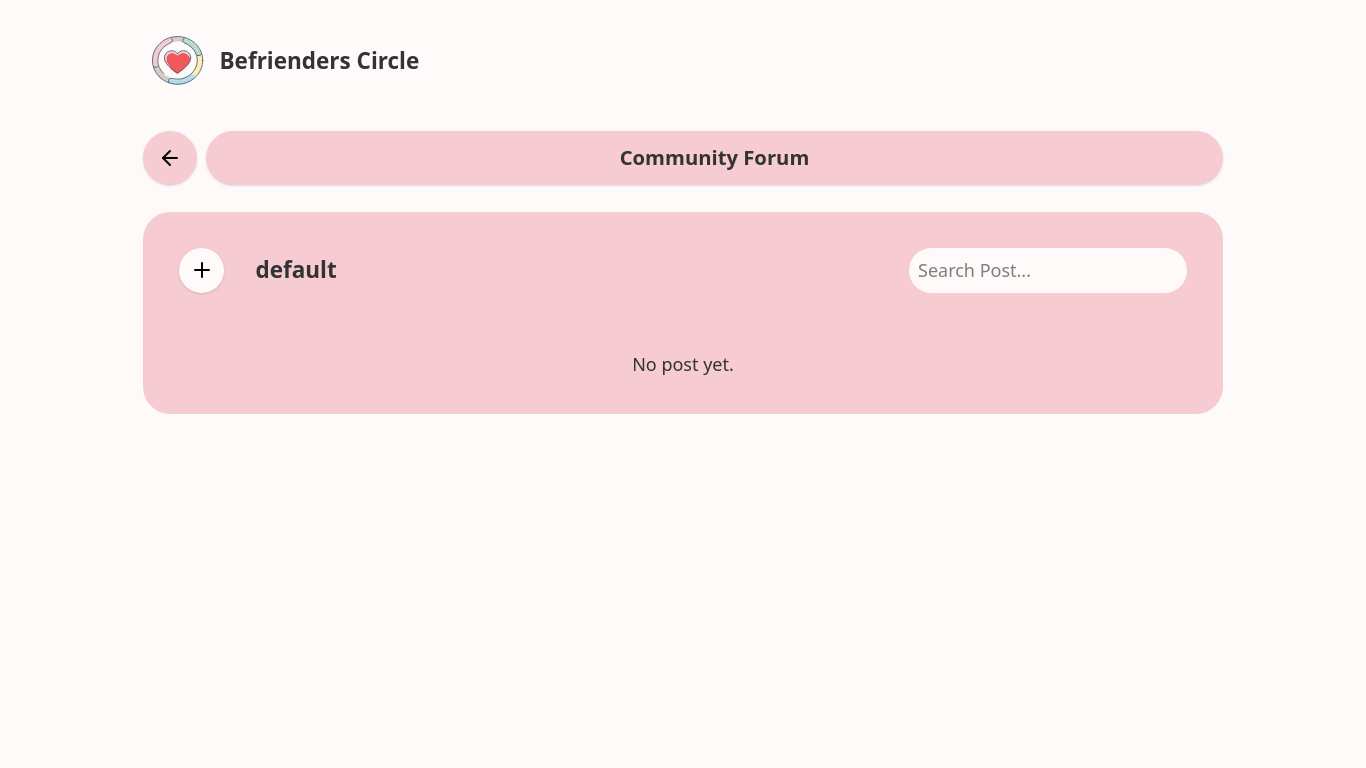
<PostsPage /> › toggles to add Post Page
Check: the heading "default" is shown, box [256,259,337,281]
Check: the text "No post yet." is shown, box [632,352,734,376]
Click the button with test id "add" at (202, 270), box [179,248,224,292]
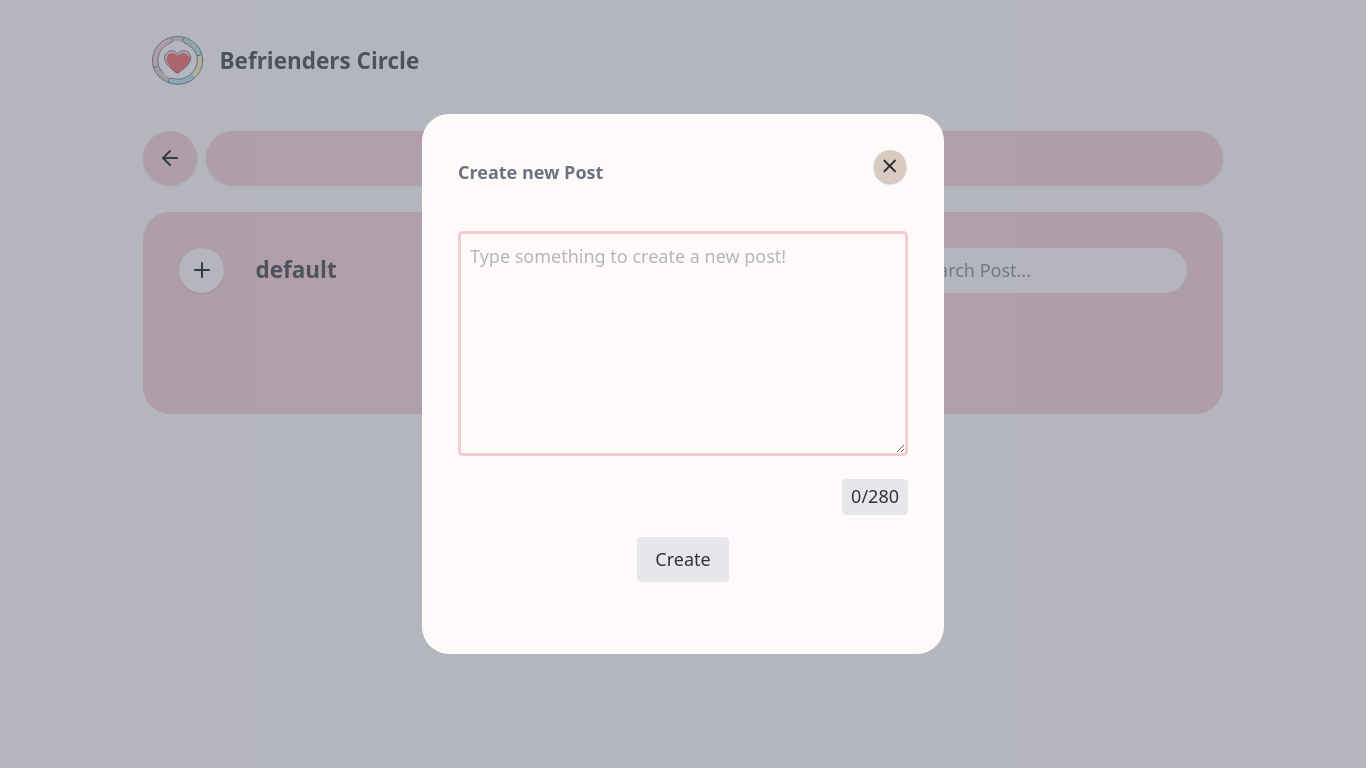
Check: the picture with alt text "Close" is shown, box [872,150,908,186]
Check: the text "Create new Post" is shown, box [458,159,603,186]
Check: the text box with placeholder "Type something to create a new post!" is shown, box [458,231,908,456]
